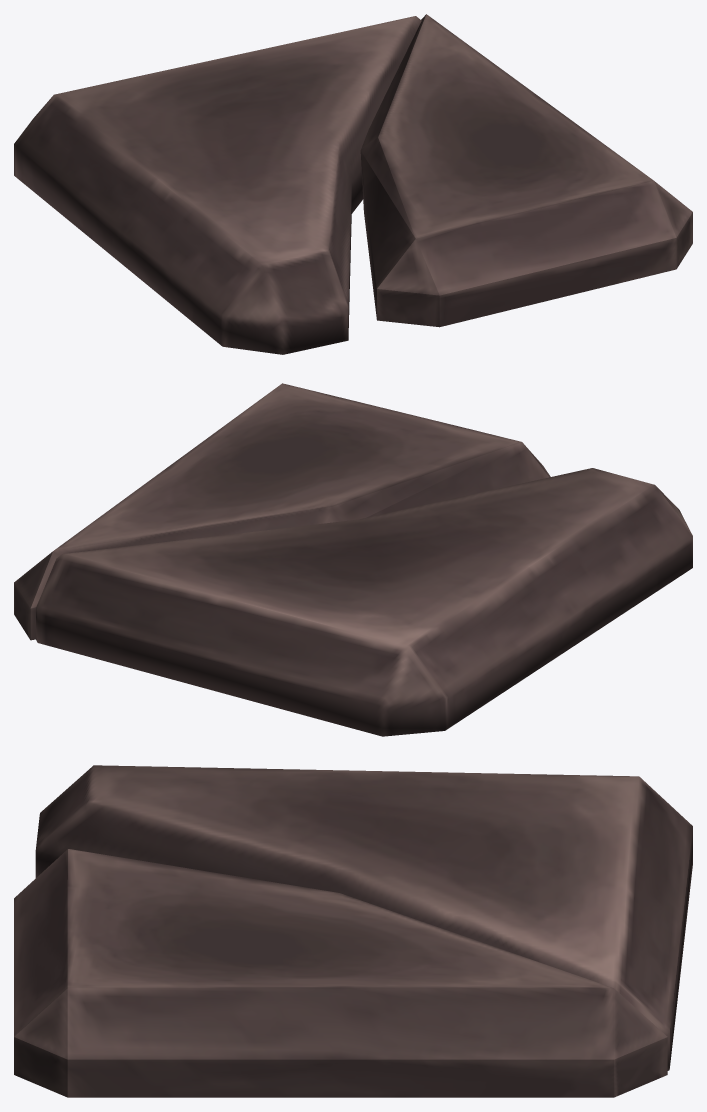
Rendered from rock_14.fbx.
3 renders of one model, top to bottom at view 1: azimuth 30°, elevation 25°; view 2: azimuth 150°, elevation 25°; view 3: azimuth 270°, elevation 25°, orthographic. The views are drawn at different scales.
Parts seen in each view (by area): view 1: rock_14; view 2: rock_14; view 3: rock_14.
Boxes of the visible parts, x1=… form: rock_14: x1=14, y1=14, x2=692, y2=354; rock_14: x1=14, y1=383, x2=692, y2=736; rock_14: x1=14, y1=765, x2=692, y2=1097.
Size of the model in its own units: 0.8379 by 0.1262 by 0.896.
